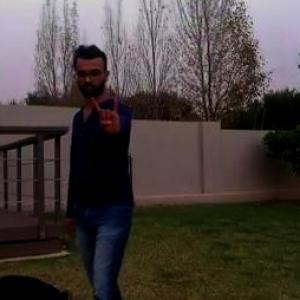takeoff-hand: (86, 88, 129, 140)
